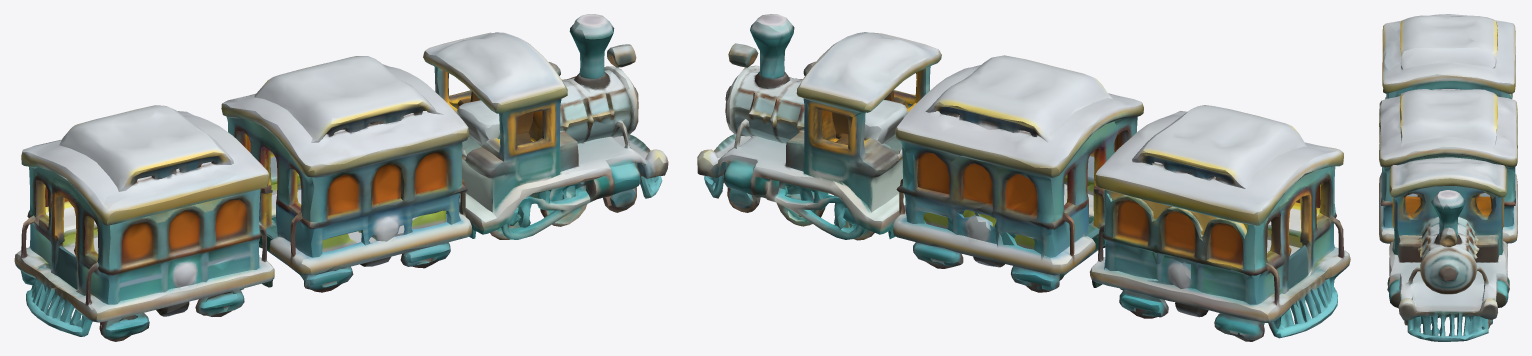
Rendered from snow-train.glb.
The picture shows the model from 3 angles, left to right: view 1: azimuth 30°, elevation 25°; view 2: azimuth 150°, elevation 25°; view 3: azimuth 270°, elevation 25°; orthographic projection. The views are drawn at different scales.
Parts seen in each view (by area): view 1: world; view 2: world; view 3: world.
Part boxes in pixels (box(x1,y1,x2,y2)): world: box(14, 14, 668, 341); world: box(697, 14, 1350, 341); world: box(1379, 14, 1517, 341).
Size of the model in its own units: 0.45 by 0.1233 by 0.1165.
Materials: 1 (1 with a texture image).
